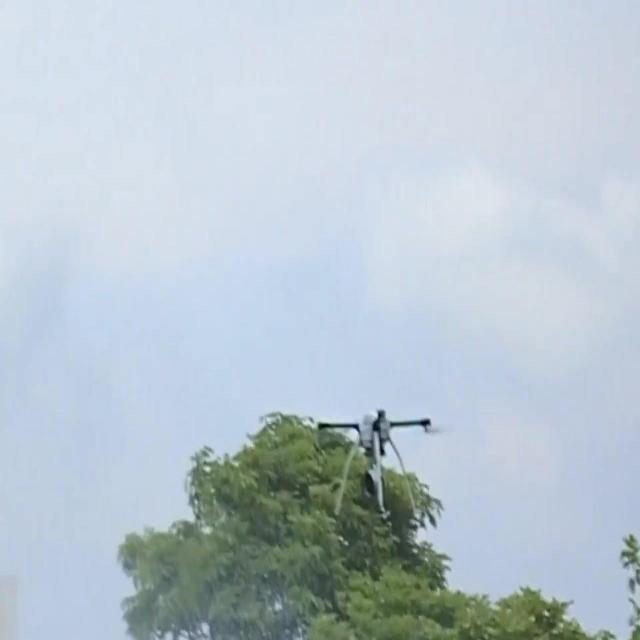UAV: (319, 409, 446, 519)
